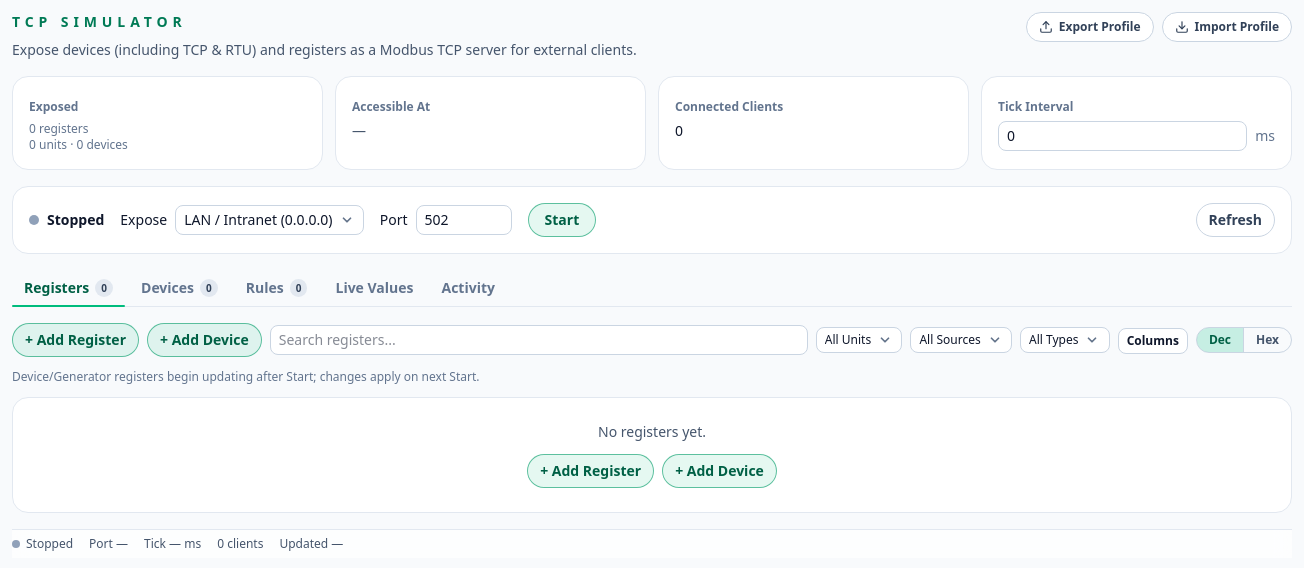
Test: TcpSimulatorPage (tabbed shell) › switches to the Rules tab and shows Add Rule
Click the tab "Rules 0" at (277, 288), box [234,270,320,306]
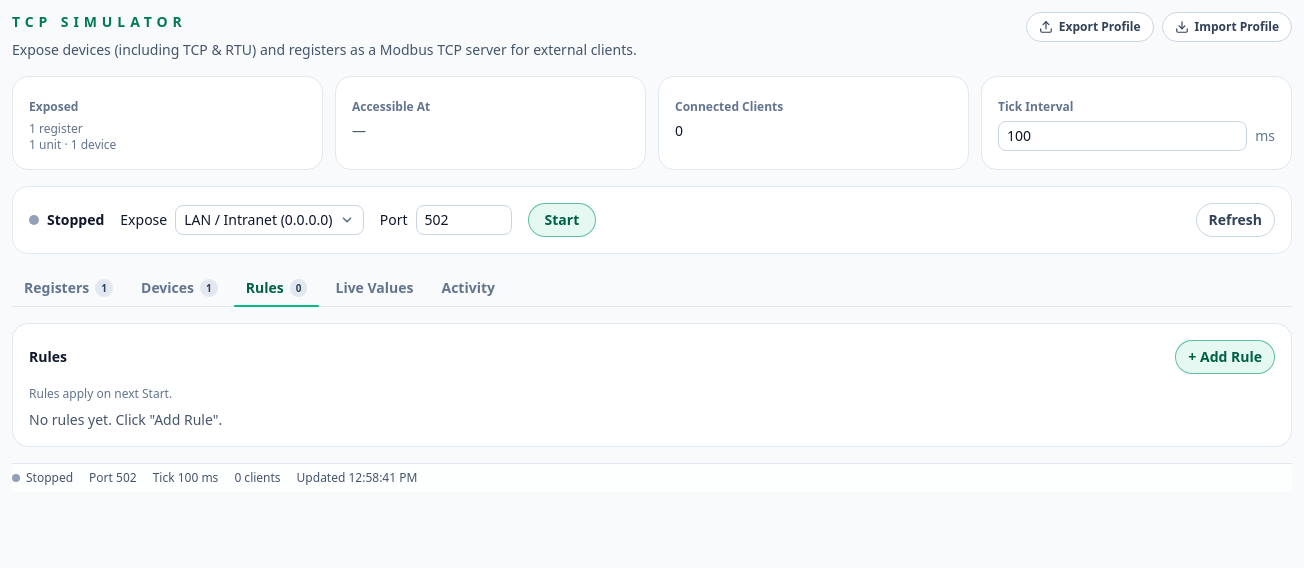
expect the button "+ Add Rule" is shown: met, box [1175,340,1275,374]
